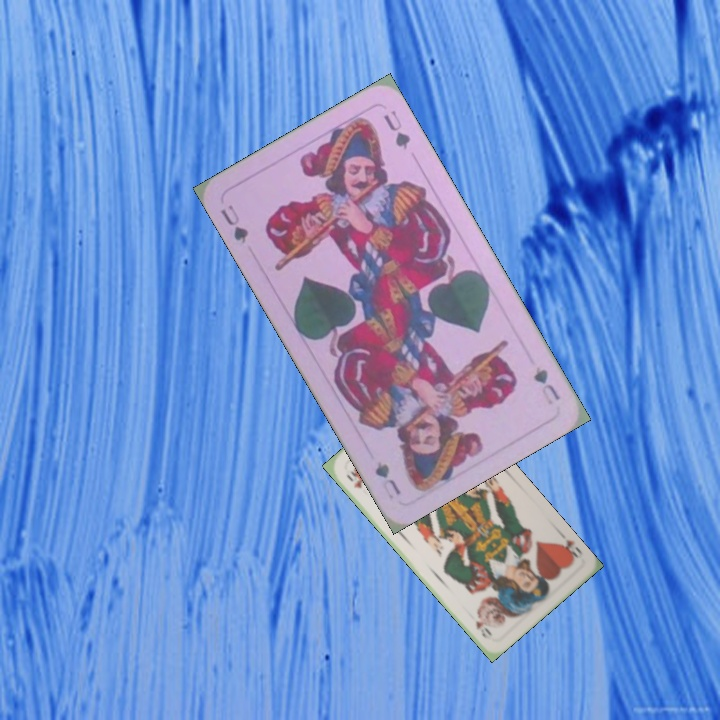GU: (216, 200, 251, 247), (529, 362, 563, 408)
HO: (554, 528, 585, 565), (342, 467, 366, 491)
